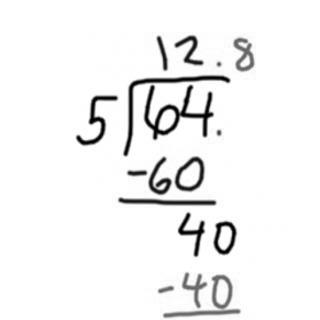.: (213, 126, 224, 140), (212, 56, 224, 68)
0: (170, 148, 207, 196), (209, 216, 239, 260), (207, 270, 236, 309)
1: (151, 30, 172, 75)
2: (169, 33, 207, 69)
4: (178, 83, 214, 139), (173, 212, 208, 258), (180, 270, 210, 311)
5: (74, 84, 121, 150)
6: (141, 84, 178, 142), (147, 153, 172, 197)
8: (229, 31, 258, 76)
